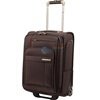luggage: (21, 0, 75, 100)
